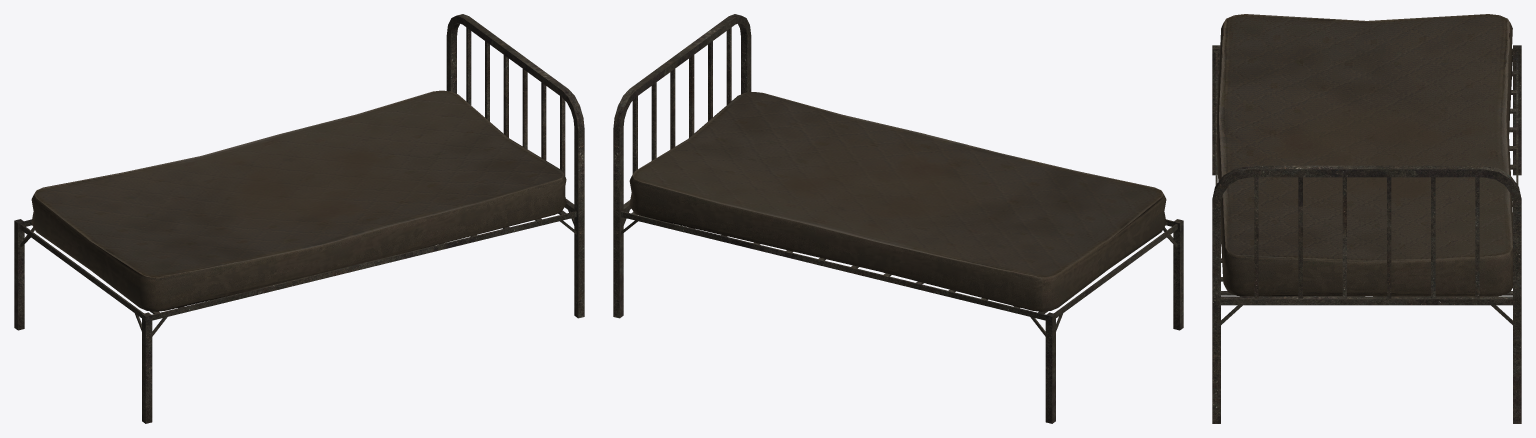
File: bed_1.glb
3 renders of one model, left to right at view 1: azimuth 30°, elevation 25°; view 2: azimuth 150°, elevation 25°; view 3: azimuth 270°, elevation 25°, orthographic. The views are drawn at different scales.
Parts seen in each view (by area): view 1: bed_1; view 2: bed_1; view 3: bed_1.
Part boxes in pixels (x1=…): bed_1: x1=14, y1=14, x2=584, y2=423; bed_1: x1=613, y1=14, x2=1183, y2=423; bed_1: x1=1212, y1=14, x2=1521, y2=423.
Size of the model in its own units: 2.7 by 1.27 by 1.4.
Materials: 2 (2 with a texture image).
